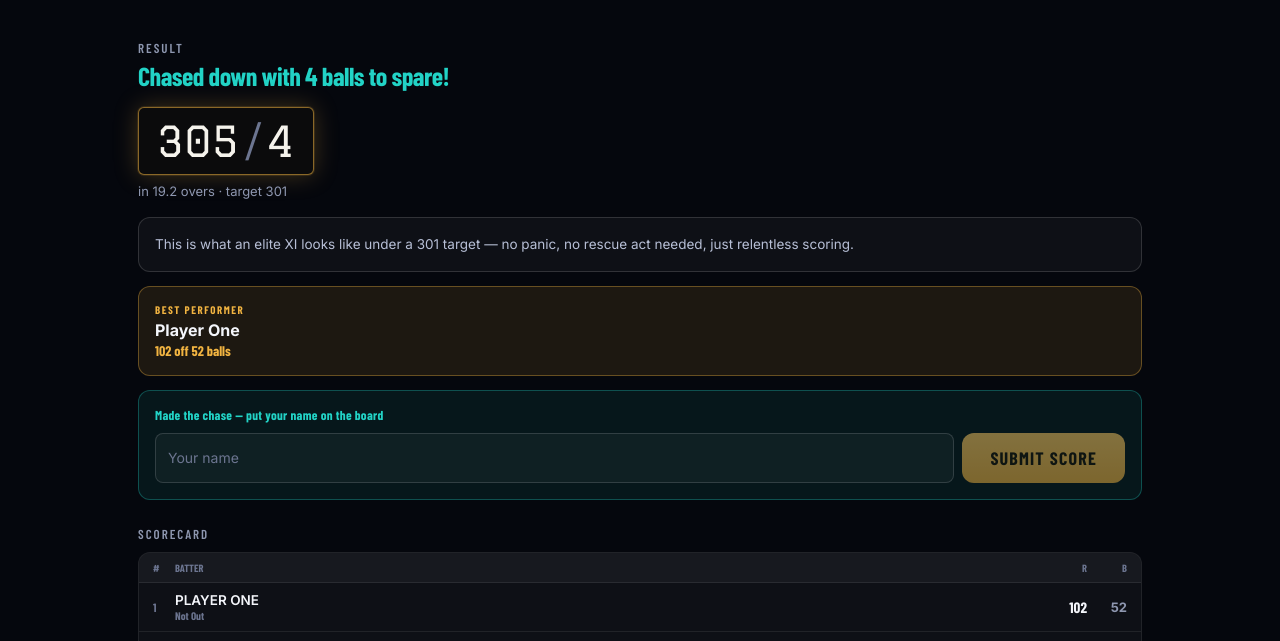
Test: Result leaderboard entry › shows the name-entry form on a win and submits it to the leaderboard
The width and height of the screenshot is (1280, 641).
Type "Test Player" into the field with placeholder "Your name".
click(555, 458); type("Test Player")  # box [155,433,954,483]
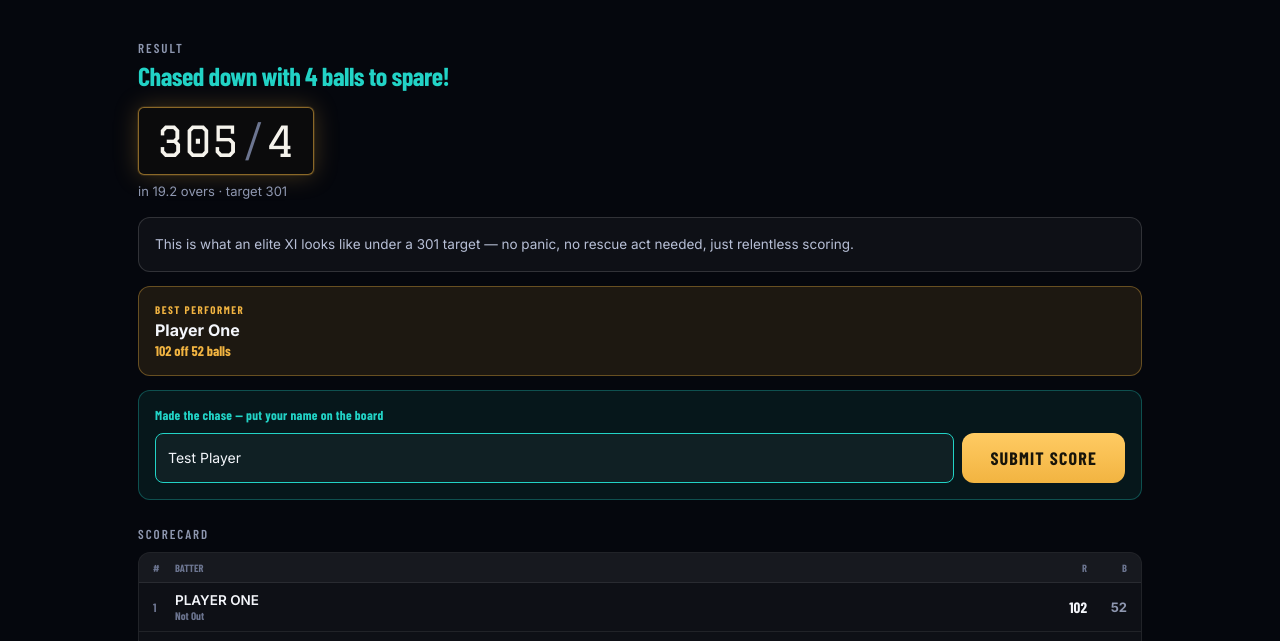
Click the button "Submit Score".
click(1044, 458)  # box [962,433,1125,483]
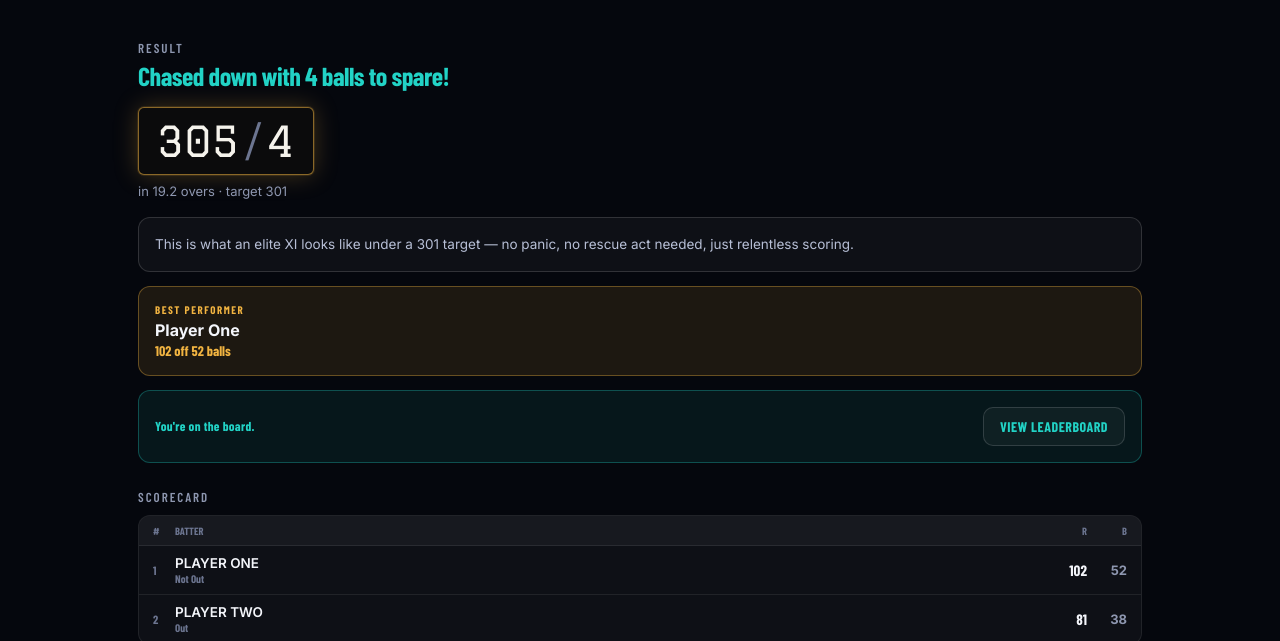
expect the text "You're on the board." is shown: met, box [155,418,255,434]
